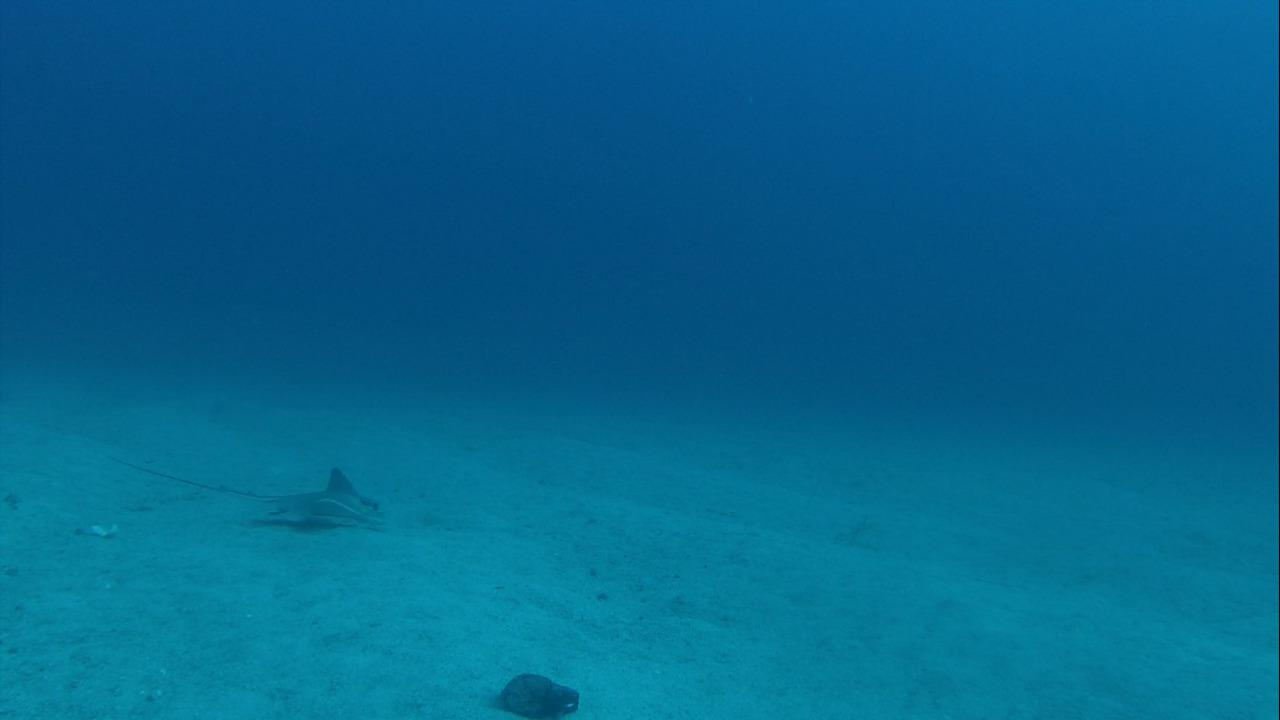myliobatis: (116, 448, 384, 534)
